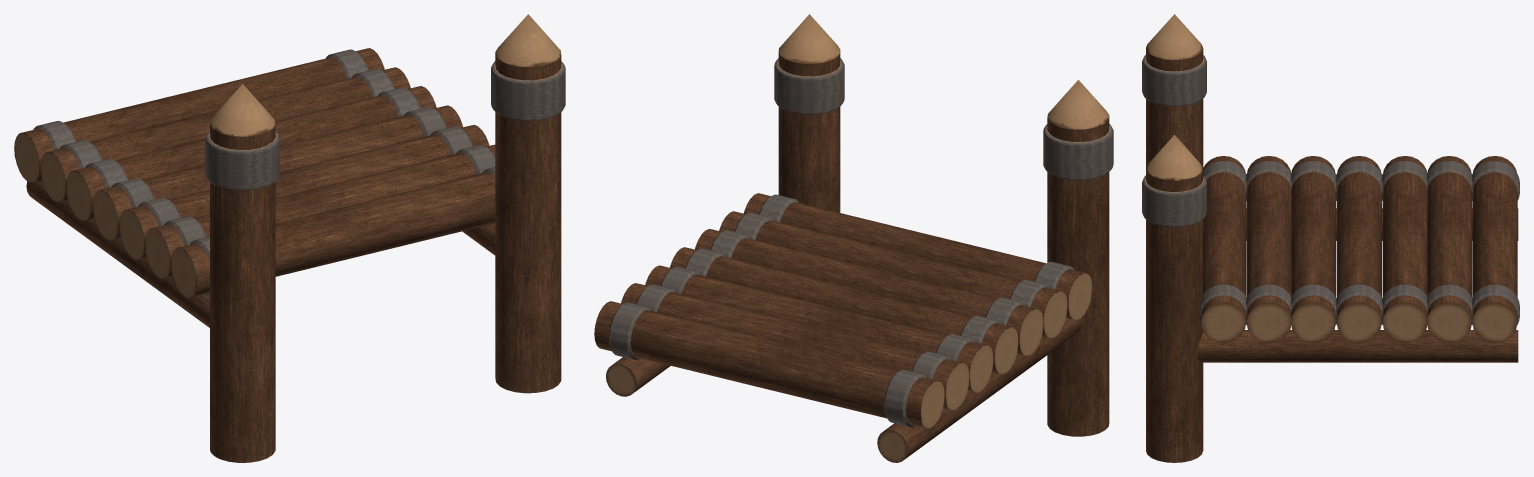
The picture shows the model from 3 angles, left to right: view 1: azimuth 30°, elevation 25°; view 2: azimuth 150°, elevation 25°; view 3: azimuth 270°, elevation 25°; orthographic projection. The views are drawn at different scales.
Visible parts, largest first — view 1: sNSC:pCylinder5_pCylinder5, sNSC:pasted__pCylinder3_pasted__pCylinder3, sNSC:pasted__pCylinder4_pasted__pCylinder4, sNSC:pasted__pCylinder1_pasted__pCylinder1, sNSC:pCylinder3_pCylinder3, sNSC:pCylinder6_pCylinder6; view 2: sNSC:pCylinder5_pCylinder5, sNSC:pasted__pCylinder3_pasted__pCylinder3, sNSC:pasted__pCylinder1_pasted__pCylinder1, sNSC:pasted__pCylinder4_pasted__pCylinder4, sNSC:pCylinder3_pCylinder3, sNSC:pCylinder6_pCylinder6; view 3: sNSC:pCylinder5_pCylinder5, sNSC:pasted__pCylinder1_pasted__pCylinder1, sNSC:pasted__pCylinder4_pasted__pCylinder4, sNSC:pasted__pCylinder3_pasted__pCylinder3, sNSC:pCylinder3_pCylinder3, sNSC:pCylinder6_pCylinder6.
Part boxes in pixels (x1,y1,x2,y2): sNSC:pCylinder5_pCylinder5: [205, 14, 565, 462]; sNSC:pasted__pCylinder3_pasted__pCylinder3: [14, 48, 495, 297]; sNSC:pasted__pCylinder4_pasted__pCylinder4: [40, 67, 495, 278]; sNSC:pasted__pCylinder1_pasted__pCylinder1: [66, 86, 489, 259]; sNSC:pCylinder3_pCylinder3: [92, 105, 462, 240]; sNSC:pCylinder6_pCylinder6: [26, 181, 495, 327]; sNSC:pCylinder5_pCylinder5: [774, 14, 1113, 436]; sNSC:pasted__pCylinder3_pasted__pCylinder3: [594, 193, 1092, 428]; sNSC:pasted__pCylinder1_pasted__pCylinder1: [645, 229, 1043, 392]; sNSC:pasted__pCylinder4_pasted__pCylinder4: [621, 211, 1067, 410]; sNSC:pCylinder3_pCylinder3: [670, 247, 1018, 374]; sNSC:pCylinder6_pCylinder6: [606, 317, 1082, 462]; sNSC:pCylinder5_pCylinder5: [1142, 14, 1206, 462]; sNSC:pasted__pCylinder1_pasted__pCylinder1: [1291, 156, 1427, 342]; sNSC:pasted__pCylinder4_pasted__pCylinder4: [1246, 156, 1472, 342]; sNSC:pasted__pCylinder3_pasted__pCylinder3: [1199, 156, 1519, 342]; sNSC:pCylinder3_pCylinder3: [1336, 156, 1382, 342]; sNSC:pCylinder6_pCylinder6: [1197, 208, 1518, 362].
Bounding box in the file's own units: 15.53 × 15.47 × 16.75.
2 materials, 2 textured.
